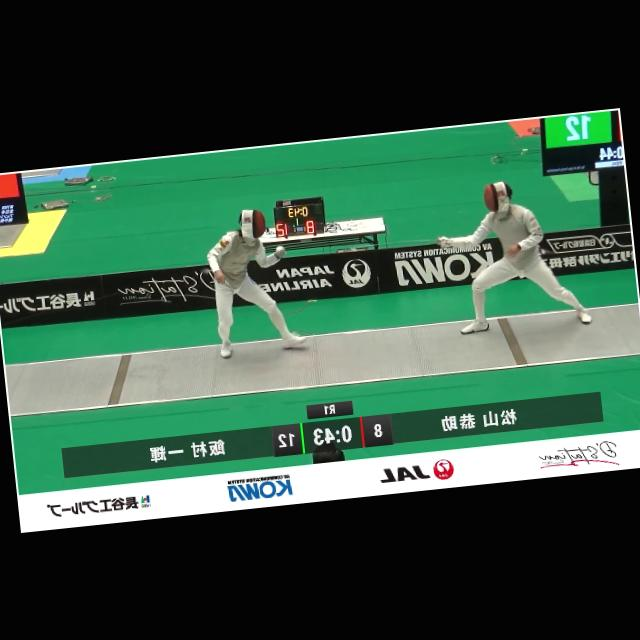blade: (338, 233, 452, 261)
